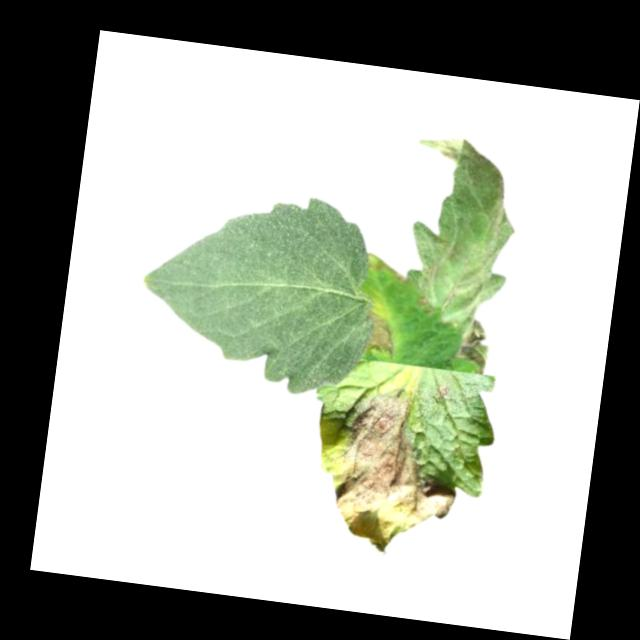Late_blight: (305, 378, 469, 563), (394, 133, 529, 334), (454, 318, 495, 374), (360, 306, 398, 356), (431, 380, 450, 402)
healthy: (127, 175, 389, 403)
